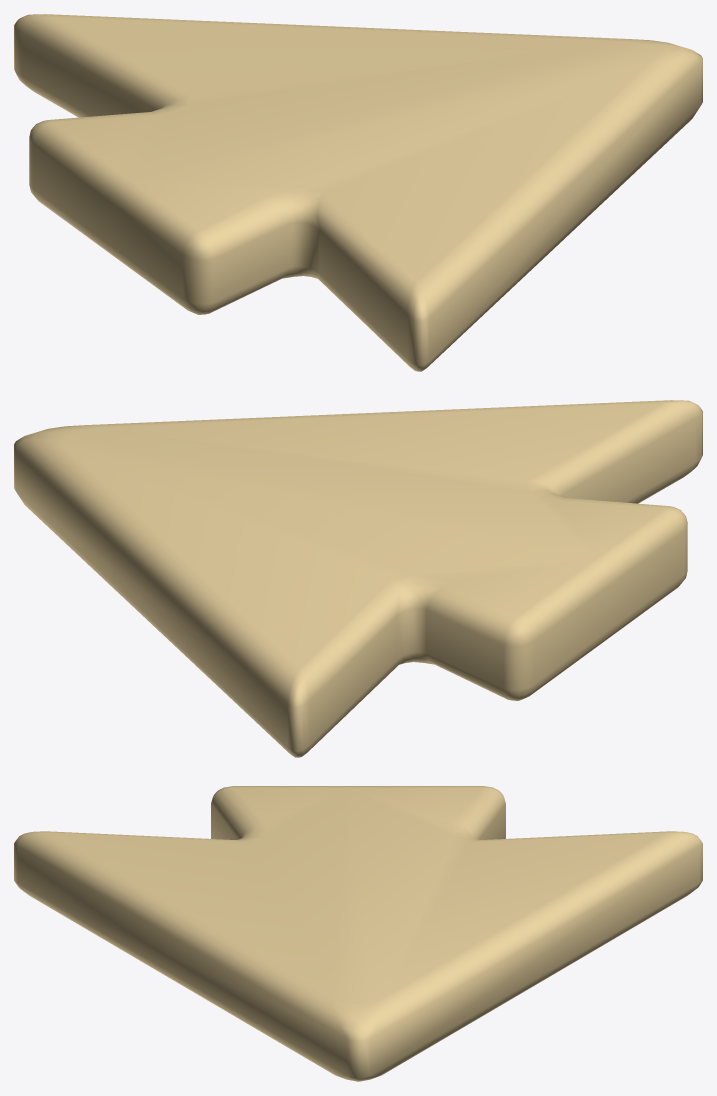
The model's file is ArrowButton.fbx.
The picture shows the model from 3 angles, top to bottom: view 1: azimuth 30°, elevation 25°; view 2: azimuth 150°, elevation 25°; view 3: azimuth 270°, elevation 25°; orthographic projection. The views are drawn at different scales.
Visible parts, largest first — view 1: Arrow; view 2: Arrow; view 3: Arrow.
Part boxes in pixels (x1,y1,x2,y2): Arrow: [14, 14, 702, 371]; Arrow: [14, 400, 702, 757]; Arrow: [14, 786, 702, 1081].
Bounding box in the file's own units: 1.78 × 0.2343 × 2.11.
